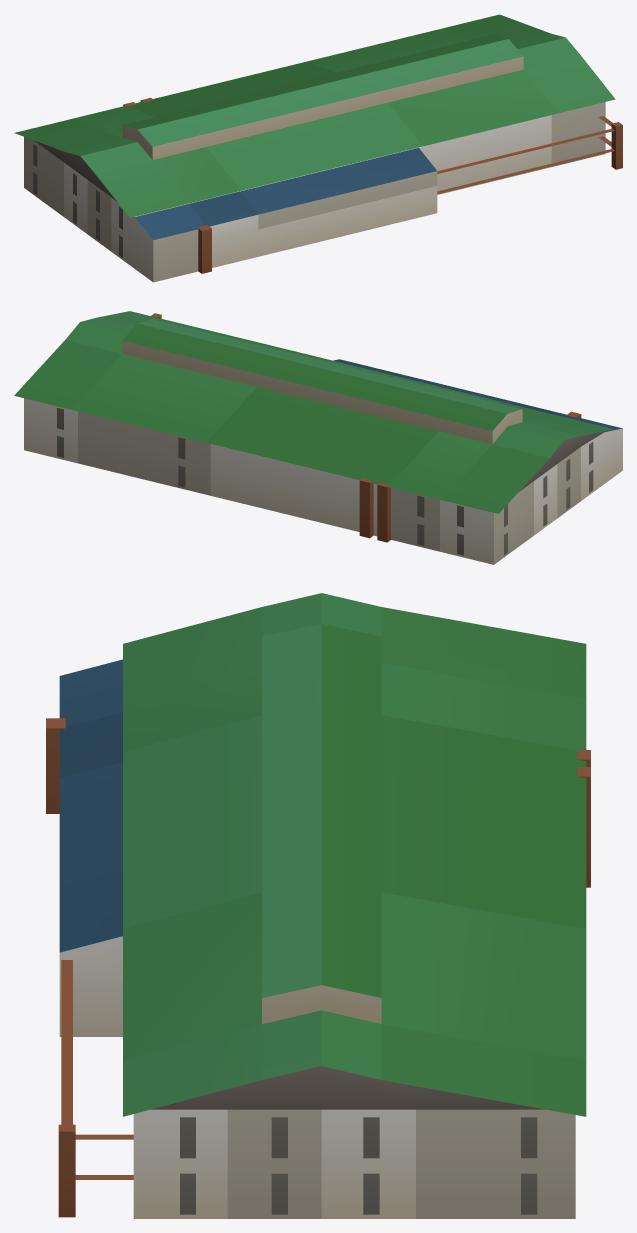
The model's file is SM_Factory_Building_02.fbx.
3 views of the same model, one above another, from view 1: azimuth 30°, elevation 25°; view 2: azimuth 150°, elevation 25°; view 3: azimuth 270°, elevation 25° (orthographic). The views are drawn at different scales.
Parts seen in each view (by area): view 1: SM_Factory_Building_02; view 2: SM_Factory_Building_02; view 3: SM_Factory_Building_02.
Boxes of the visible parts, x1=… form: SM_Factory_Building_02: x1=14, y1=14, x2=622, y2=282; SM_Factory_Building_02: x1=14, y1=311, x2=622, y2=564; SM_Factory_Building_02: x1=46, y1=593, x2=590, y2=1218.
Bounding box in the file's own units: 14.87 × 2.71 × 7.24.
